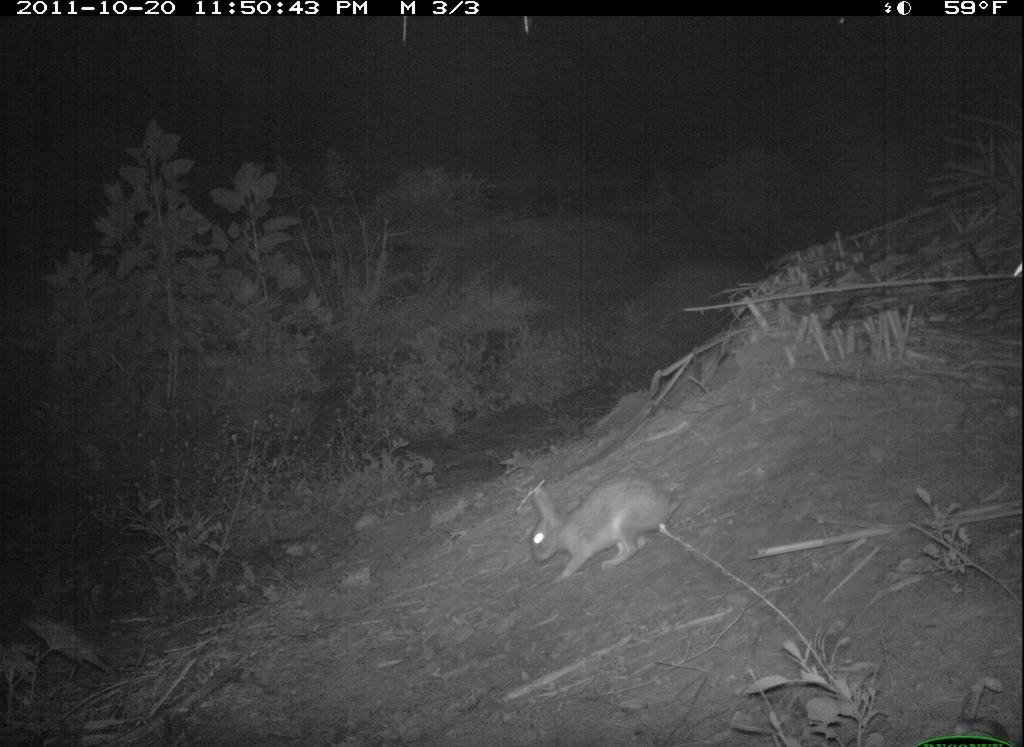rabbit: (520, 474, 680, 585)
